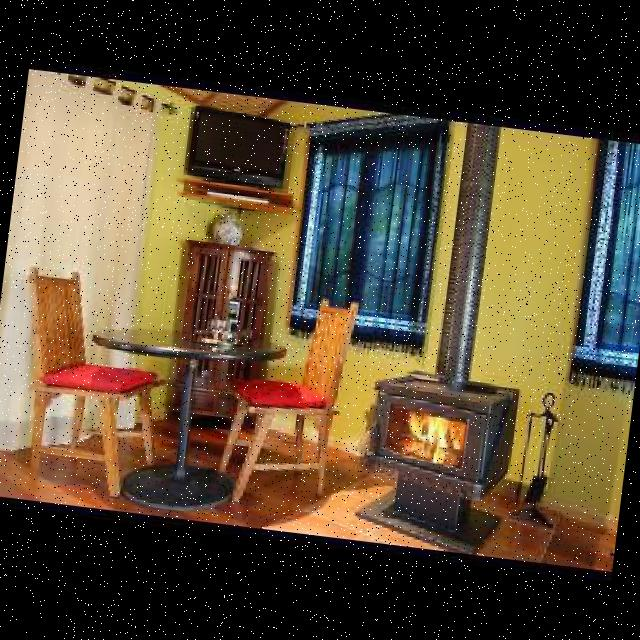fire: (392, 396, 468, 465)
